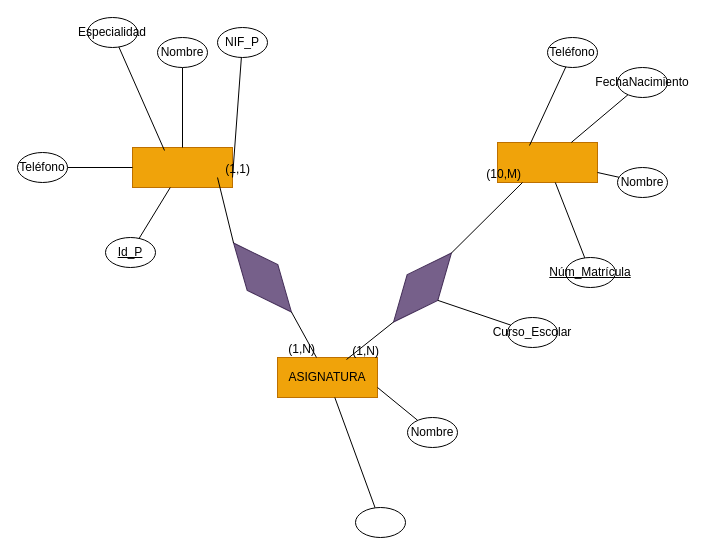
Some shapes in this 706 by 555 pixel diagram are drawn without their labels. Here are the shapes that lost their labels. From the top down, the centre of each, then its label:
(x=182, y=167): PROFESOR
(x=547, y=162): ALUMNO
(x=262, y=277): imparte
(x=422, y=287): matricula
(x=380, y=522): Código_asignatura
